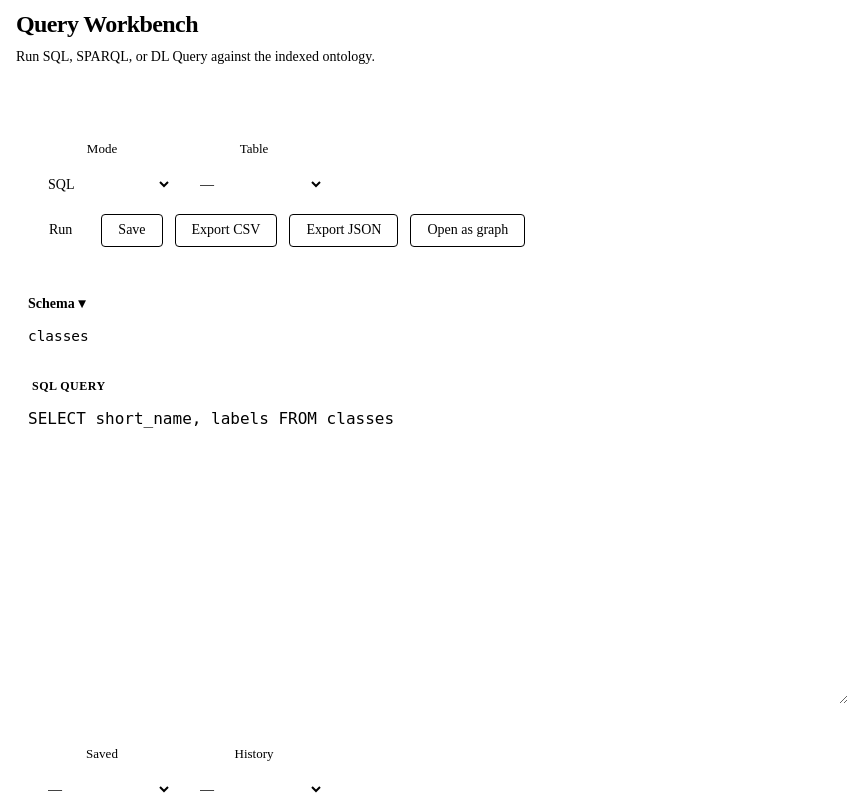
Test: QueryWorkbenchPanel › hides table picker in SPARQL mode
Step 1. Select "SPARQL" in the dropdown labelled "Mode" → (102, 185), box [32, 167, 172, 202]
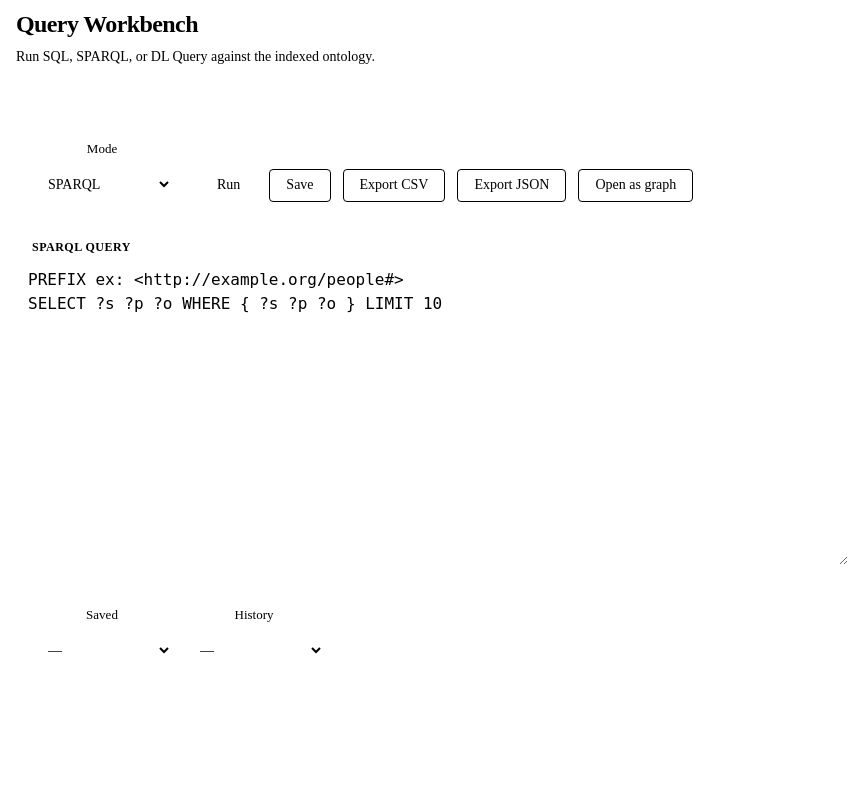
Expected: the button "classes" is gone
Expected: the text "SPARQL query" is shown, [32, 240, 131, 254]
